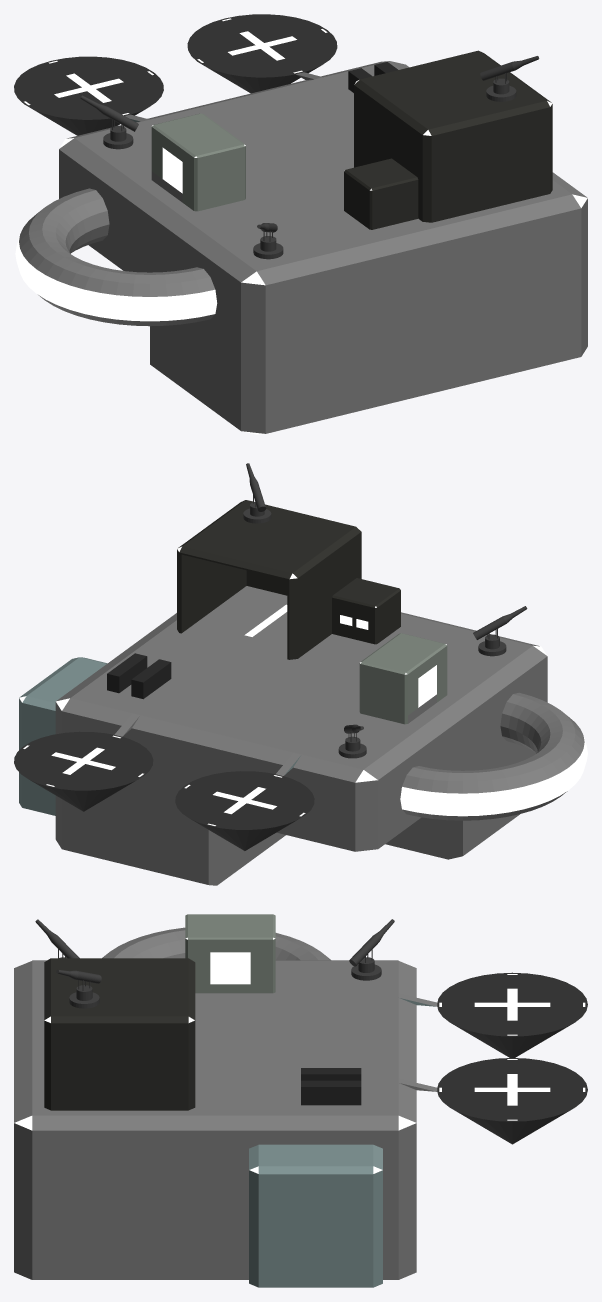
File: arms_factory.glb
3 renders of one model, top to bottom at view 1: azimuth 30°, elevation 25°; view 2: azimuth 150°, elevation 25°; view 3: azimuth 270°, elevation 25°, orthographic. The views are drawn at different scales.
Parts seen in each view (by area): view 1: main_structure, warehouse, landing_bay_2, landing_bay_1, office, turret_3, turret_2, turret_1; view 2: main_structure, warehouse, landing_bay_1, landing_bay_2, office, container_2, container_1, turret_1, turret_2, turret_3; view 3: main_structure, warehouse, landing_bay_2, landing_bay_1, container_1, turret_3, turret_2, container_2.
Boxes of the visible parts, bbox=[...] form: main_structure: bbox=[15, 61, 587, 434]; warehouse: bbox=[354, 50, 552, 222]; landing_bay_2: bbox=[187, 14, 337, 93]; landing_bay_1: bbox=[14, 56, 163, 135]; office: bbox=[344, 158, 418, 229]; turret_3: bbox=[80, 95, 138, 149]; turret_2: bbox=[480, 56, 539, 101]; turret_1: bbox=[253, 223, 283, 259]; main_structure: bbox=[19, 586, 587, 885]; warehouse: bbox=[177, 500, 361, 659]; landing_bay_1: bbox=[175, 771, 314, 850]; landing_bay_2: bbox=[14, 731, 153, 811]; office: bbox=[332, 578, 400, 644]; container_2: bbox=[131, 659, 171, 699]; container_1: bbox=[107, 653, 147, 693]; turret_1: bbox=[473, 606, 527, 656]; turret_2: bbox=[243, 463, 271, 523]; turret_3: bbox=[338, 724, 366, 758]; main_structure: bbox=[14, 914, 437, 1287]; warehouse: bbox=[44, 958, 195, 1110]; landing_bay_2: bbox=[437, 1058, 587, 1144]; landing_bay_1: bbox=[437, 972, 587, 1057]; container_1: bbox=[301, 1080, 361, 1105]; turret_3: bbox=[349, 919, 394, 980]; turret_2: bbox=[56, 969, 101, 1008]; container_2: bbox=[301, 1068, 361, 1080].
Size of what is drawn, in the model's own units: 119 by 65.58 by 114.
